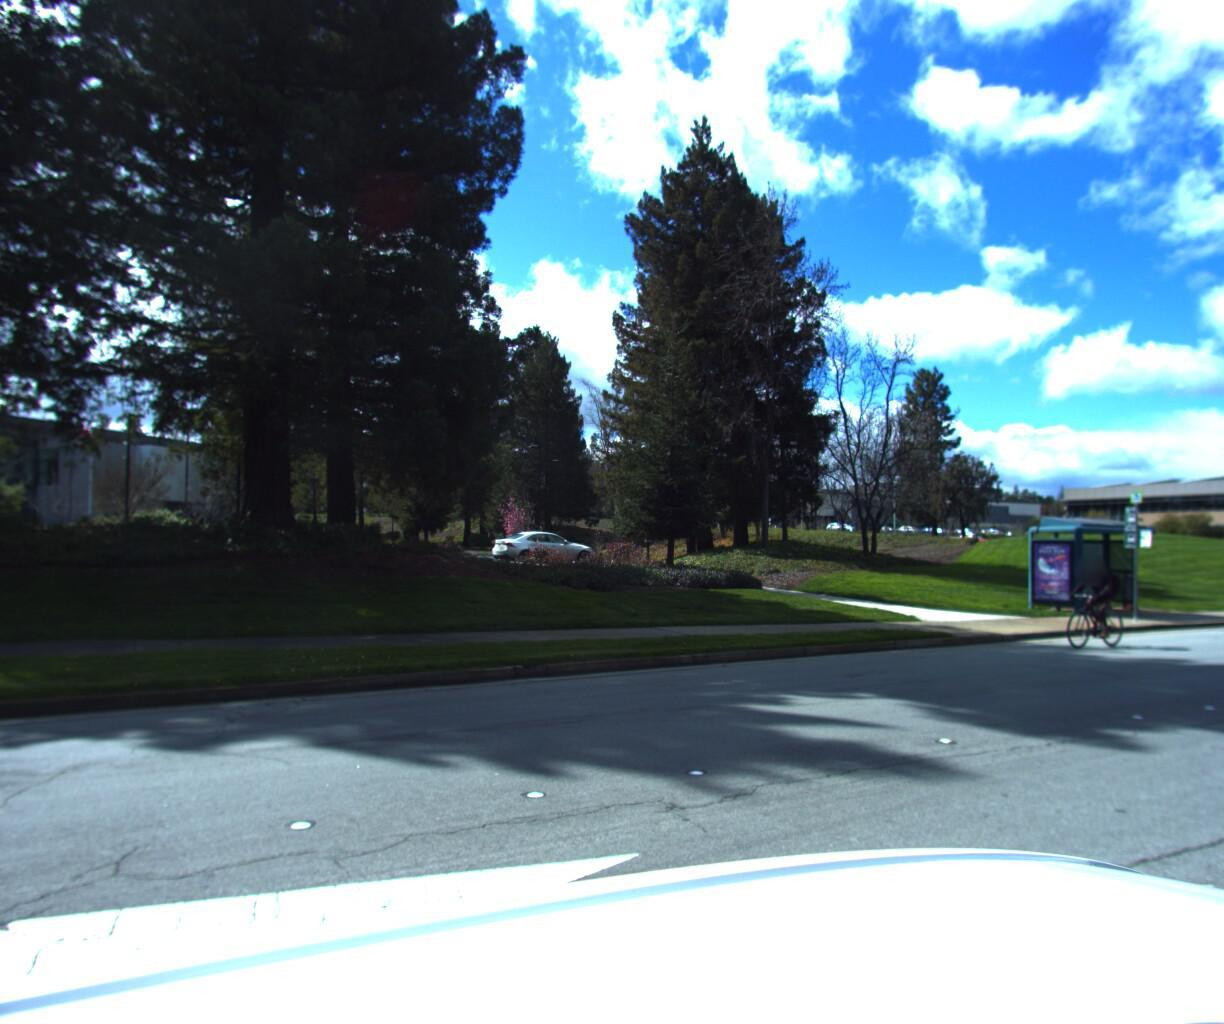bicycle: (1039, 562, 1142, 658)
